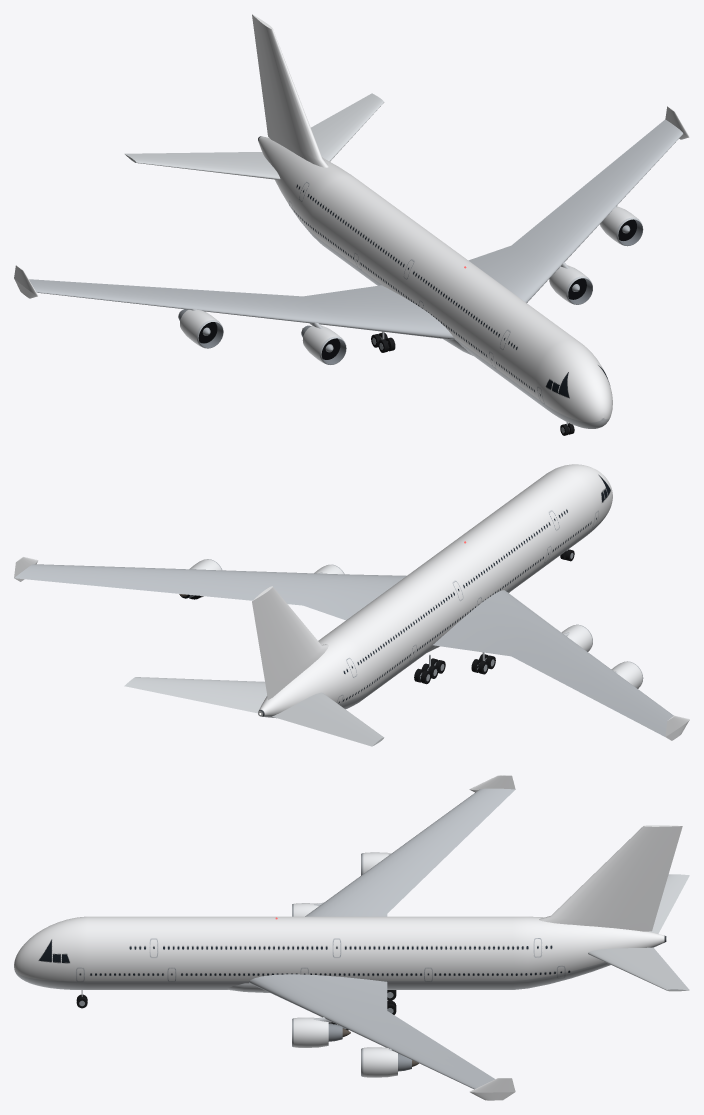
3 renders of one model, top to bottom at view 1: azimuth 30°, elevation 25°; view 2: azimuth 150°, elevation 25°; view 3: azimuth 270°, elevation 25°, orthographic. The views are drawn at different scales.
Visible parts, largest first — view 1: body; view 2: body, gear; view 3: body.
Boxes of the visible parts, x1=… form: body: x1=14, y1=14, x2=689, y2=428; body: x1=14, y1=464, x2=689, y2=746; gear: x1=414, y1=549, x2=574, y2=684; body: x1=14, y1=775, x2=689, y2=1100.
Size of the model in its own units: 80.1 by 22.17 by 75.35.
Materials: 19 (1 with a texture image).
